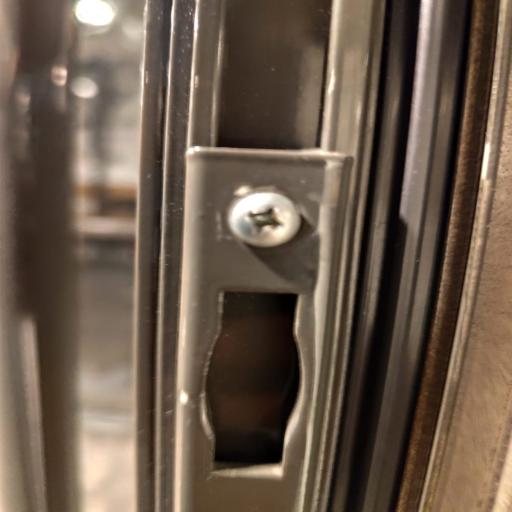Phillips: (229, 196, 304, 254)
